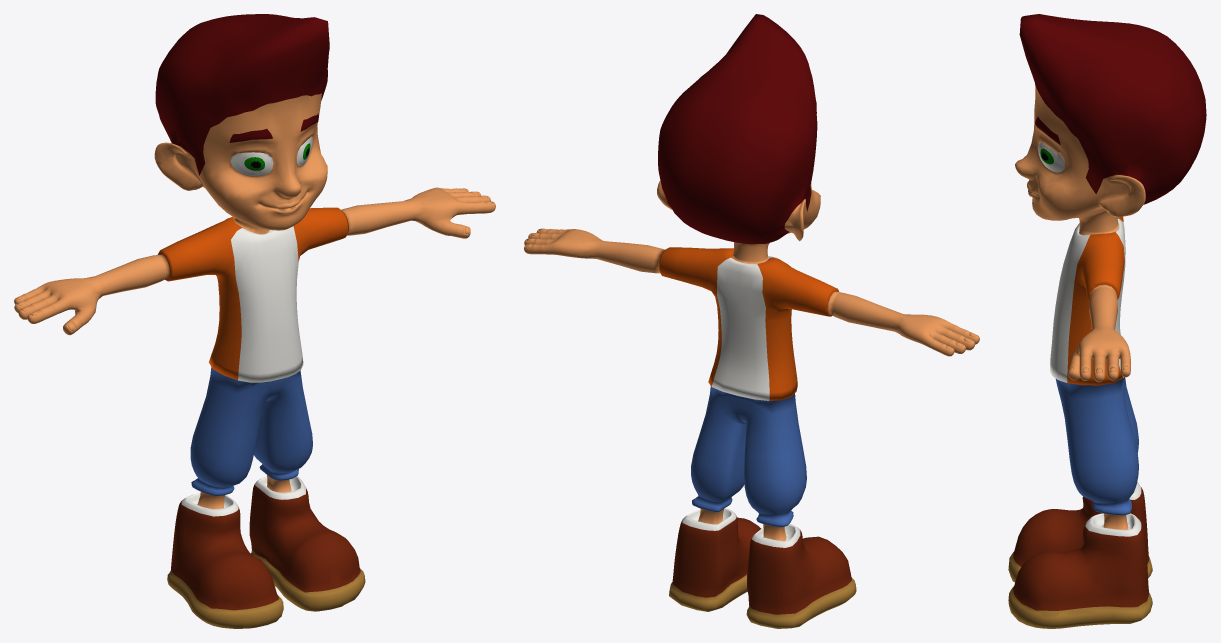
The model's file is kid.glb.
The picture shows the model from 3 angles, left to right: view 1: azimuth 30°, elevation 25°; view 2: azimuth 150°, elevation 25°; view 3: azimuth 270°, elevation 25°; orthographic projection. The views are drawn at different scales.
Parts seen in each view (by area): view 1: Material-material; view 2: Material-material; view 3: Material-material.
Part boxes in pixels (x1,y1,x2,y2): Material-material: (14,14,495,628); Material-material: (524,14,979,628); Material-material: (1008,14,1206,628).
Size of the model in its own units: 9.99 by 11.89 by 3.63.
1 material, 1 textured.
